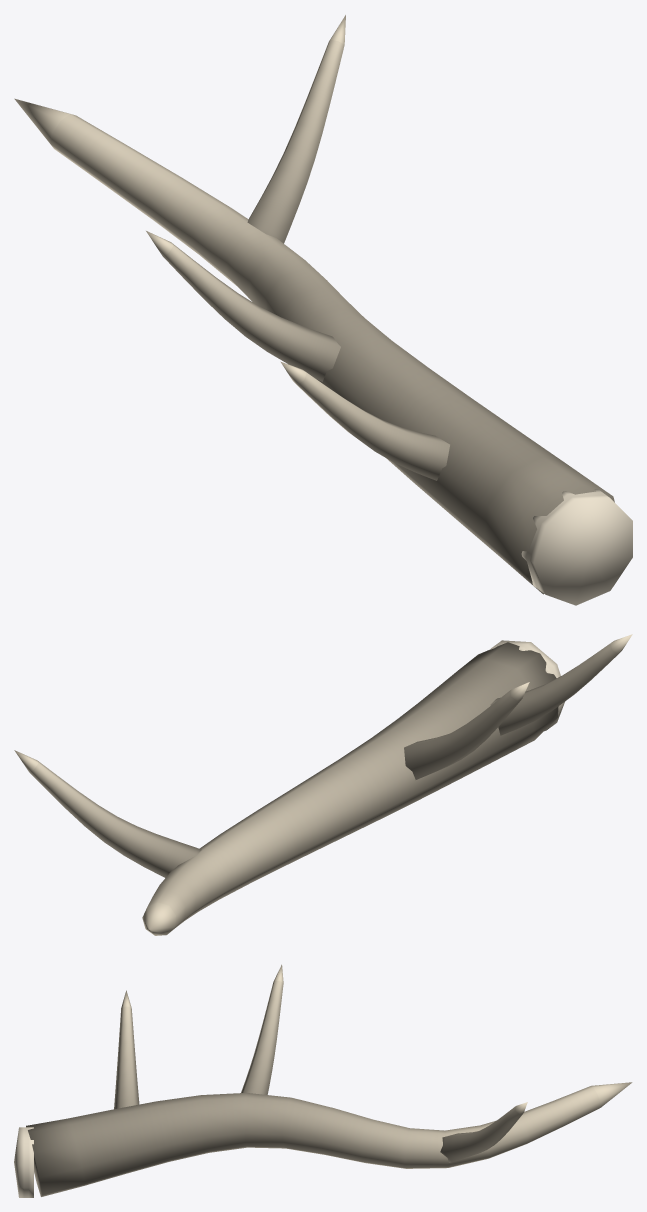
Rendered from Driftwood.fbx.
3 renders of one model, top to bottom at view 1: azimuth 30°, elevation 25°; view 2: azimuth 150°, elevation 25°; view 3: azimuth 270°, elevation 25°, orthographic. The views are drawn at different scales.
Visible parts, largest first — view 1: Driftwood; view 2: Driftwood; view 3: Driftwood.
Part boxes in pixels (x1,y1,x2,y2): Driftwood: (14, 15, 632, 605); Driftwood: (14, 634, 632, 935); Driftwood: (14, 964, 632, 1197).
Bounding box in the file's own units: 213 × 136 × 465.
1 material, 1 textured.
